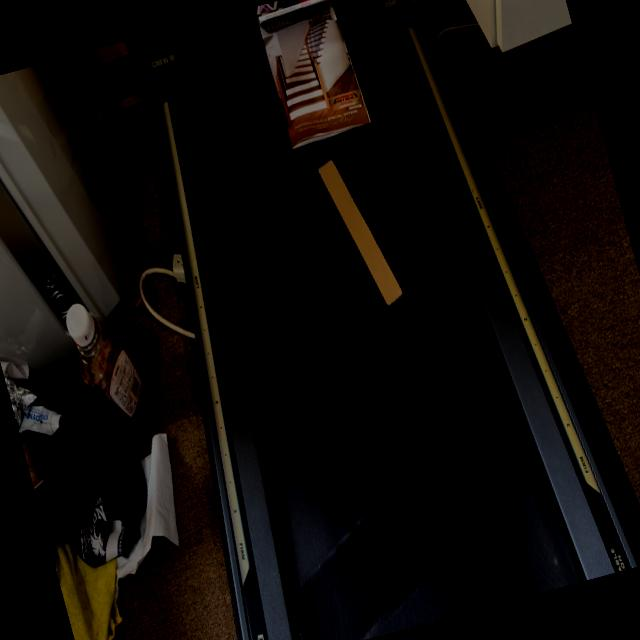Recycle: (255, 0, 374, 150), (314, 148, 407, 318), (250, 0, 360, 20)
